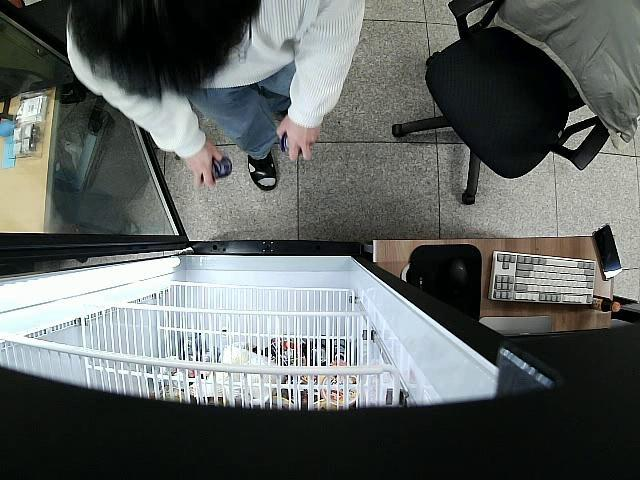14_welchsGrape: (212, 148, 234, 182), (278, 131, 302, 158)
